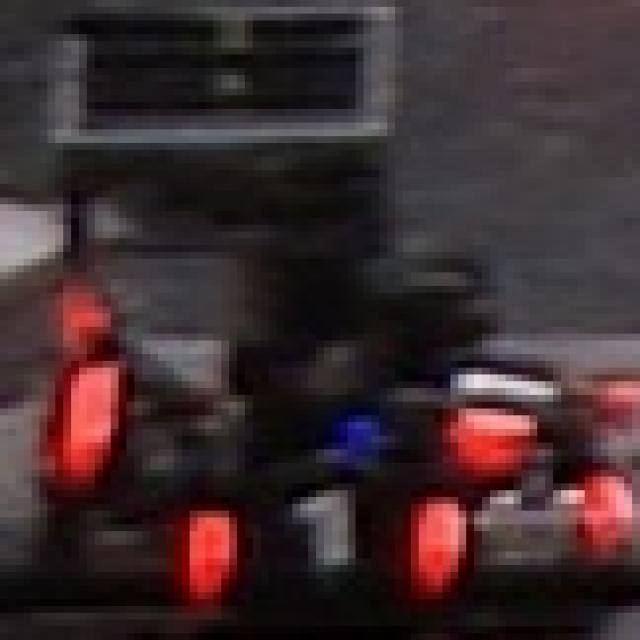R1: (174, 490, 466, 592), (443, 333, 553, 442)
